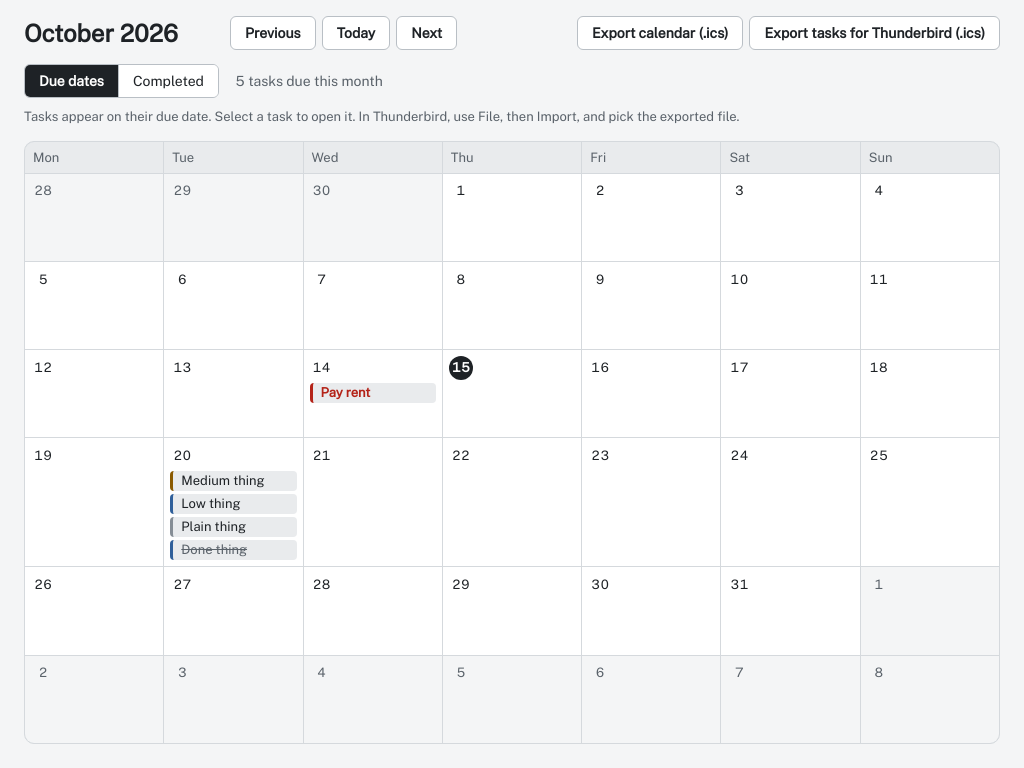
Scenario: CalendarView › moves between months
Click the button with aria-label "Next month". click: click(427, 33)
box: x1=396 y1=16 x2=457 y2=50
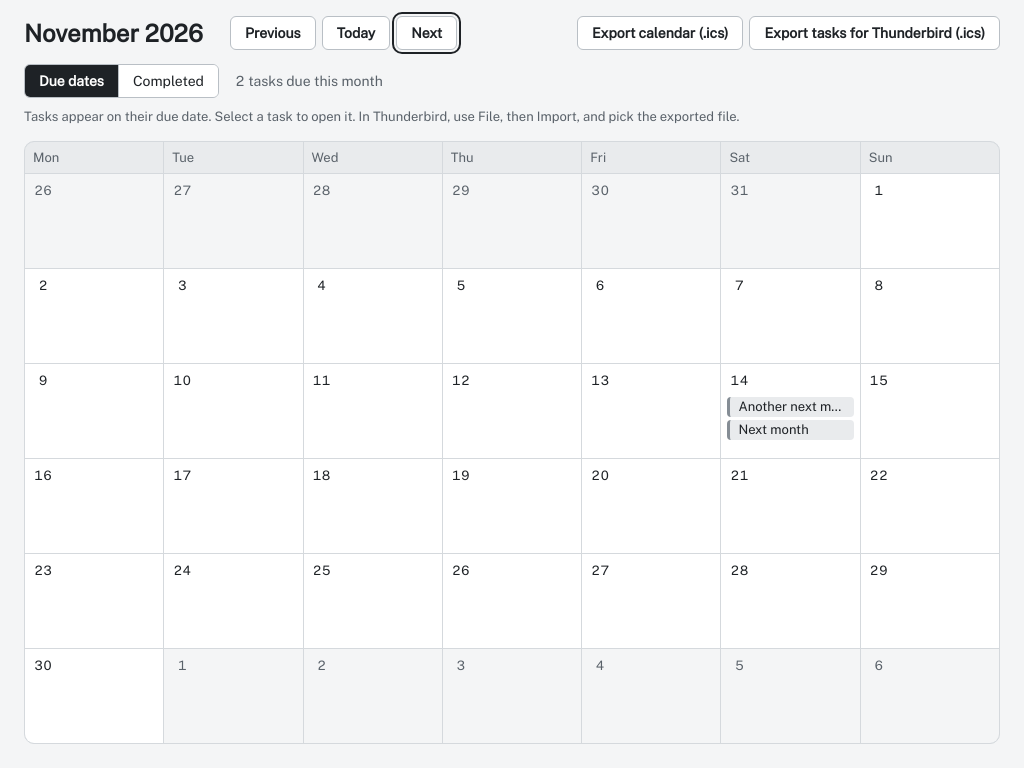
Now the heading "November 2026" is shown, box x1=24 y1=18 x2=214 y2=48
Click the button with aria-label "Previous month". click: click(273, 33)
box: x1=230 y1=16 x2=316 y2=50
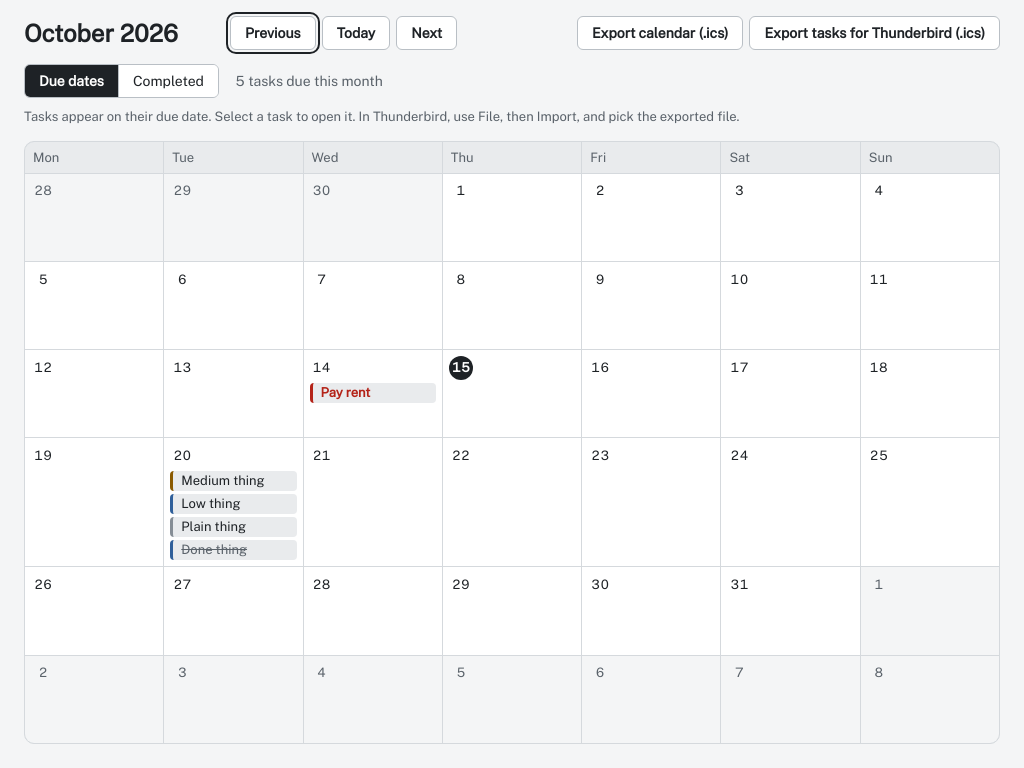
Click the button with aria-label "Previous month". click: click(273, 33)
box: x1=230 y1=16 x2=316 y2=50
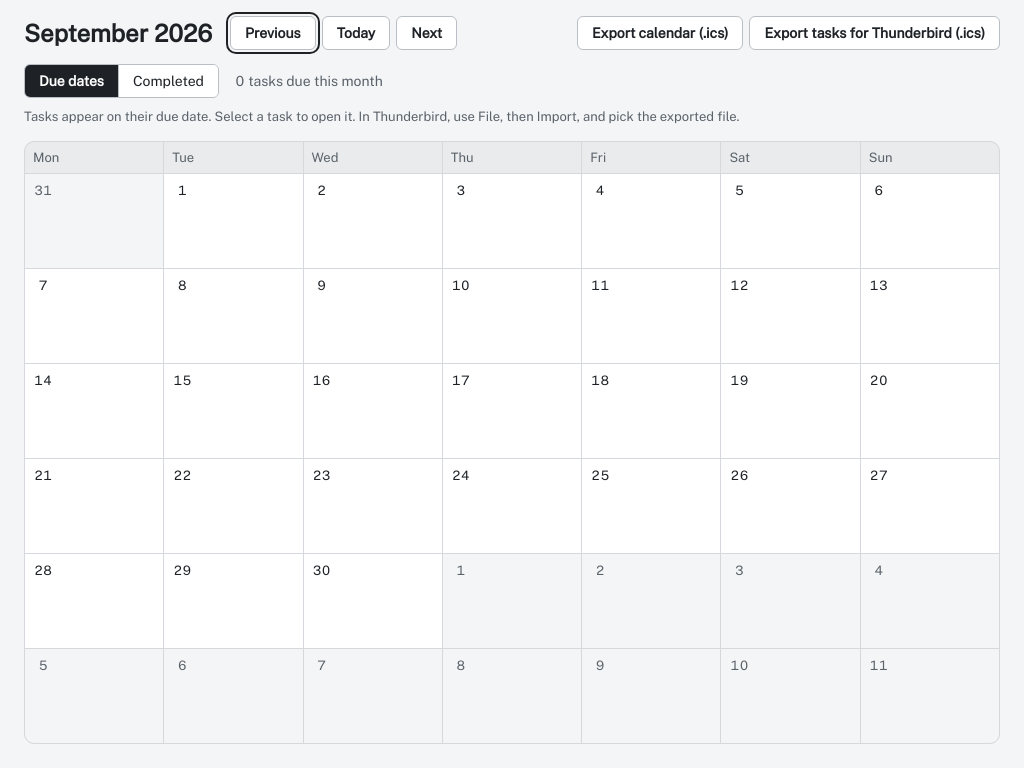
Now the heading "September 2026" is shown, box x1=24 y1=18 x2=214 y2=48
Click the button "Today". click: click(356, 33)
box: x1=322 y1=16 x2=390 y2=50
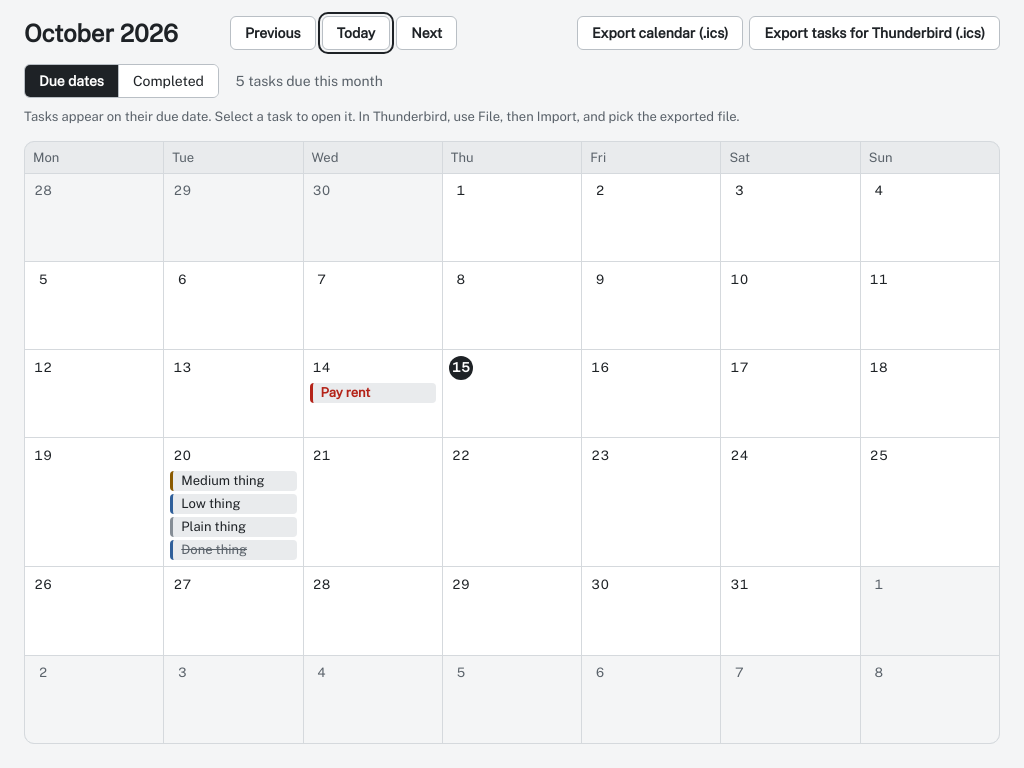
Now the heading "October 2026" is shown, box x1=24 y1=19 x2=178 y2=47
